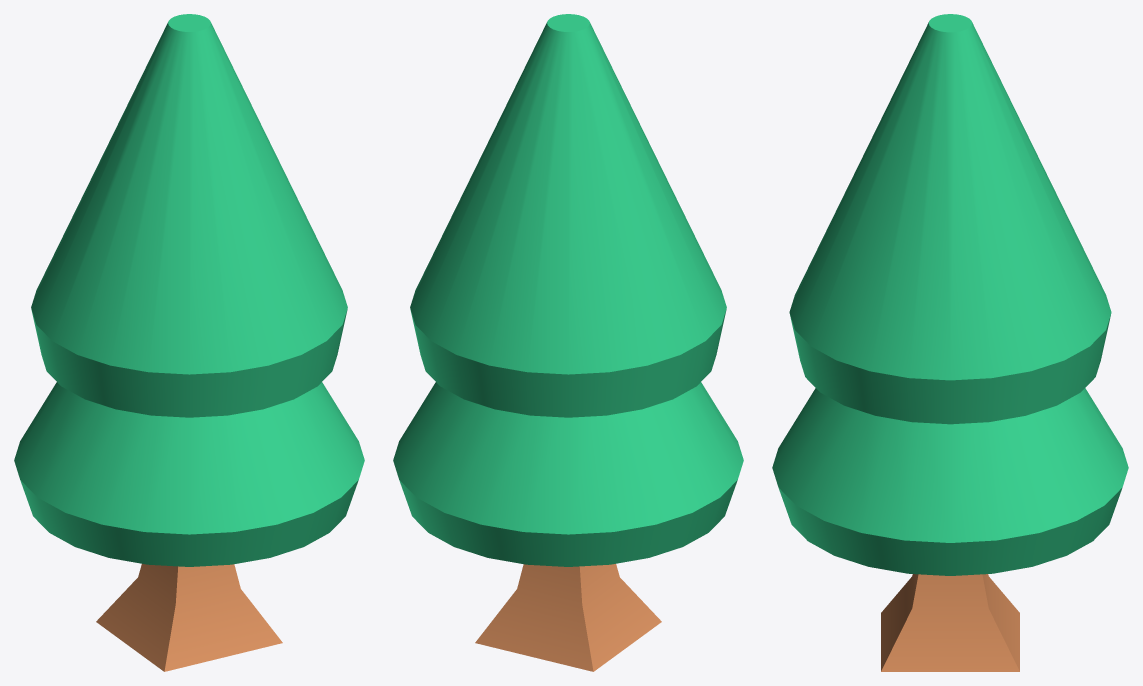
Rendered from treePineSmall.glb.
3 renders of one model, left to right at view 1: azimuth 30°, elevation 25°; view 2: azimuth 150°, elevation 25°; view 3: azimuth 270°, elevation 25°, orthographic.
Parts seen in each view (by area): view 1: treePineSmall; view 2: treePineSmall; view 3: treePineSmall.
Boxes of the visible parts, x1,y1,x2,y2 form: treePineSmall: [14, 14, 364, 671]; treePineSmall: [393, 14, 743, 671]; treePineSmall: [772, 14, 1128, 671].
Size of the model in its own units: 0.7114 by 1.36 by 0.7114.
